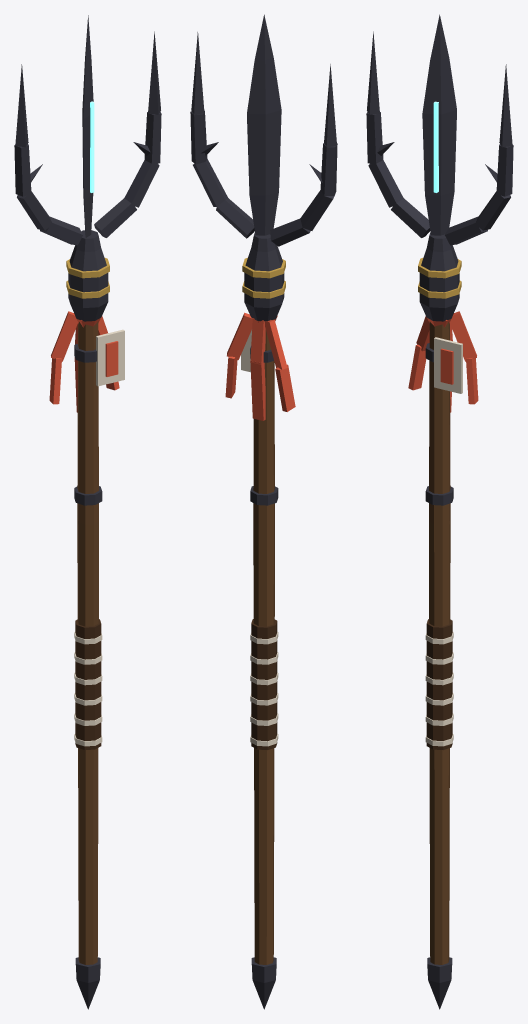
Rendered from weapon_samjichang.glb.
The picture shows the model from 3 angles, left to right: view 1: azimuth 30°, elevation 25°; view 2: azimuth 150°, elevation 25°; view 3: azimuth 330°, elevation 25°; orthographic projection.
Parts seen in each view (by area): view 1: weapon_samjichang; view 2: weapon_samjichang; view 3: weapon_samjichang.
Boxes of the visible parts, x1,y1,x2,y2 form: weapon_samjichang: (14, 15, 161, 1009); weapon_samjichang: (190, 14, 337, 1009); weapon_samjichang: (366, 14, 513, 1009).
Size of the model in its own units: 0.374 by 2.44 by 0.1.
